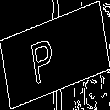P_N: (40, 26, 70, 84)
